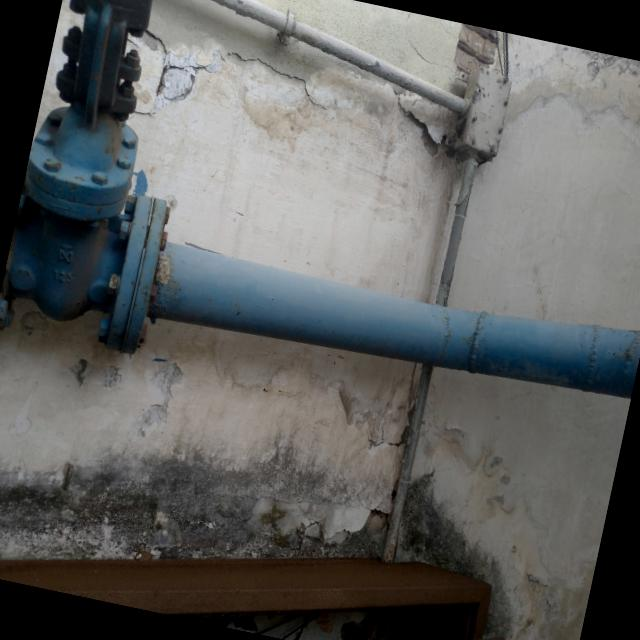gas: (5, 216, 630, 396)
